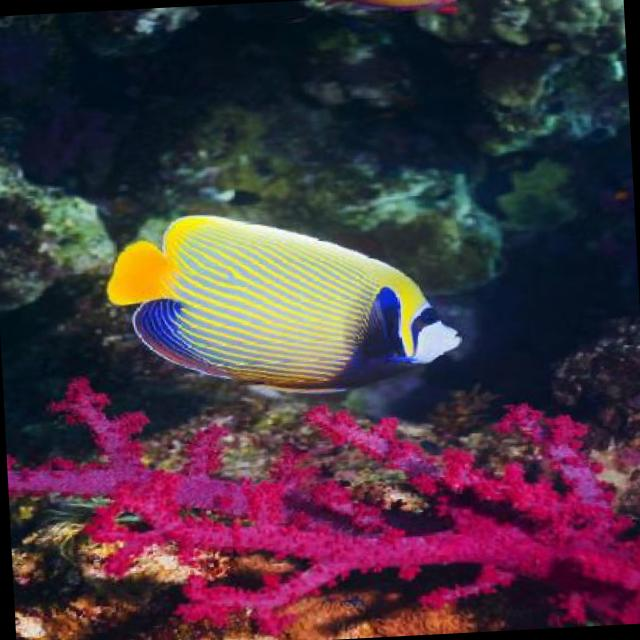AngelFish: (105, 196, 469, 402)
